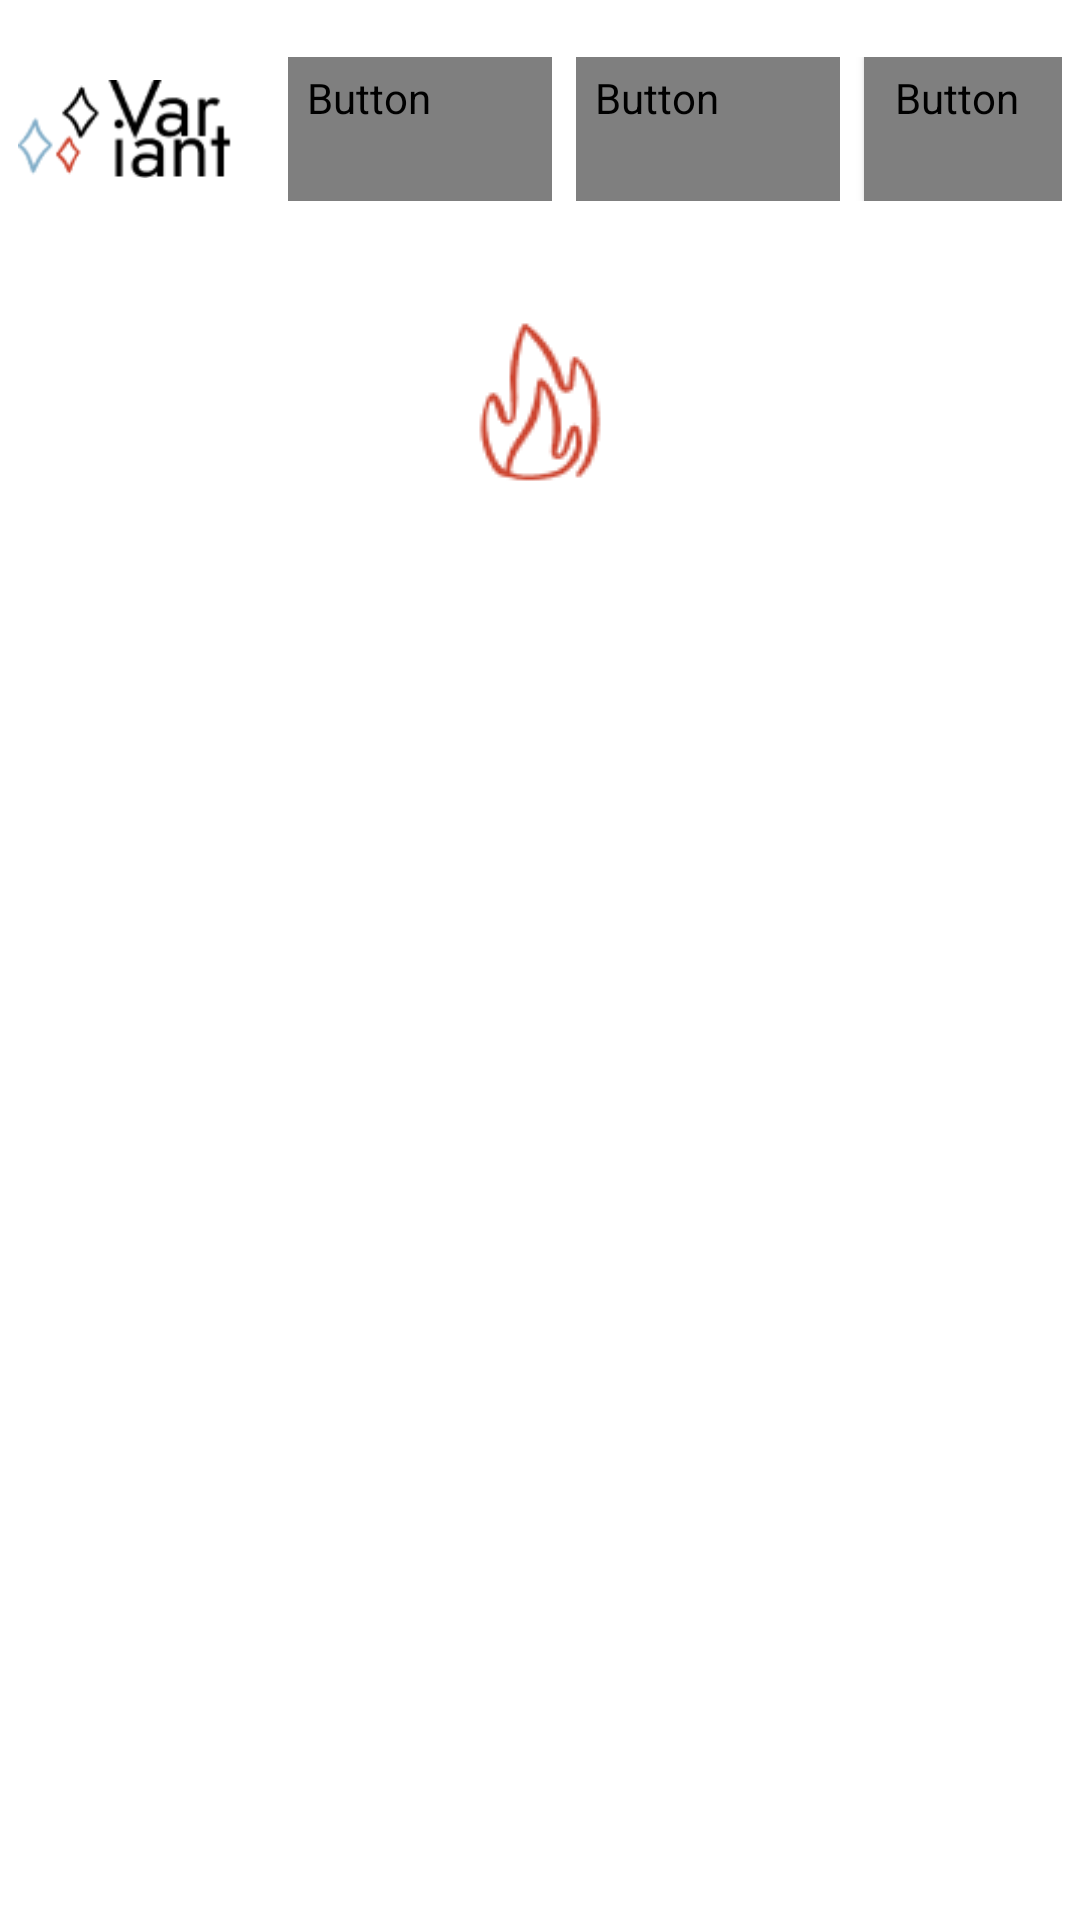

Icon bounding boxes for this 1080w x 1920h phone screenshot, format (x1, y1, x2, y2):
fire: (479, 323, 601, 481)
